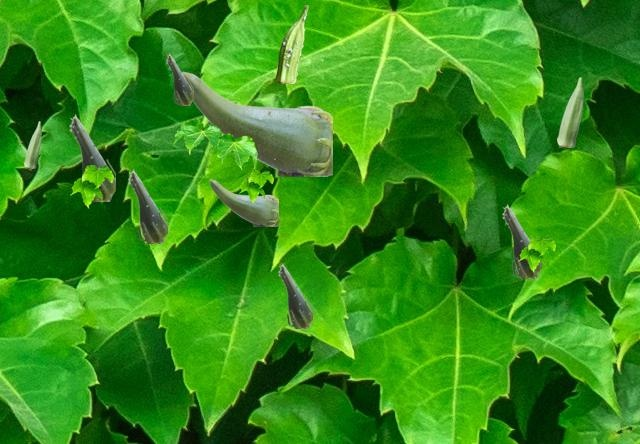okra: (182, 71, 331, 175), (69, 114, 114, 200), (209, 179, 277, 225), (128, 169, 166, 242), (502, 204, 540, 277), (276, 5, 307, 82), (278, 263, 311, 327), (557, 77, 582, 146), (166, 53, 192, 104), (24, 121, 40, 167)
